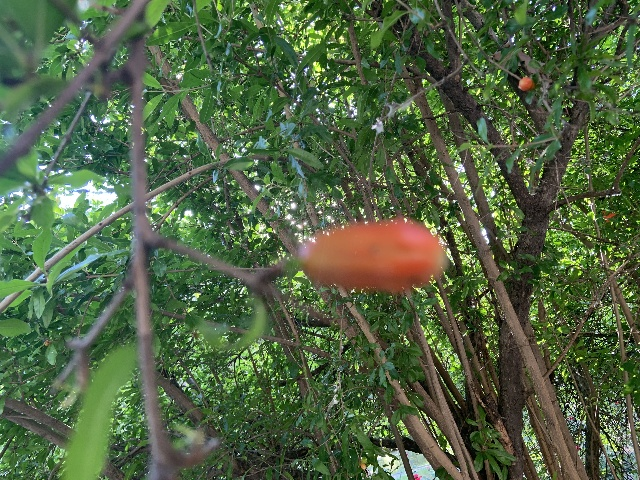bud: (297, 217, 446, 293), (518, 76, 535, 90)
flower: (600, 209, 616, 223)
